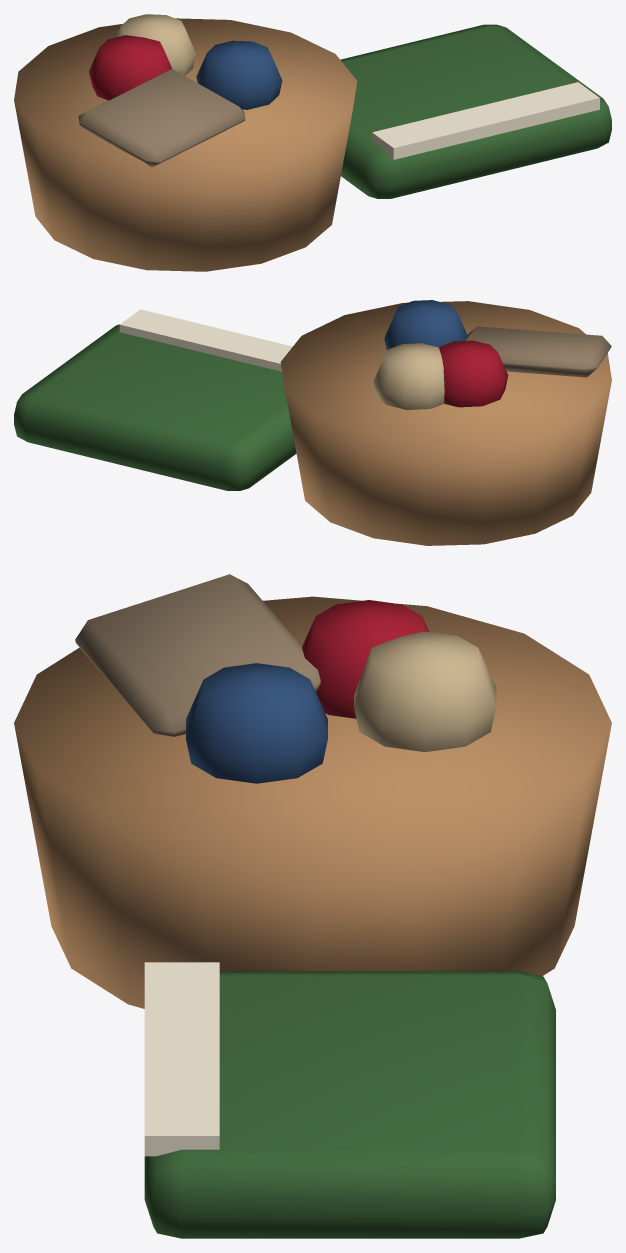
Rendered from sewing_basket.glb.
The picture shows the model from 3 angles, top to bottom: view 1: azimuth 30°, elevation 25°; view 2: azimuth 150°, elevation 25°; view 3: azimuth 270°, elevation 25°; orthographic projection. The views are drawn at different scales.
Visible parts, largest first — view 1: sewing_basket; view 2: sewing_basket; view 3: sewing_basket.
Part boxes in pixels (box(x1,y1,x2,y2)): sewing_basket: box(14, 14, 611, 271); sewing_basket: box(14, 300, 611, 545); sewing_basket: box(14, 574, 611, 1238).
Bounding box in the file's own units: 0.57 × 0.165 × 0.32.
